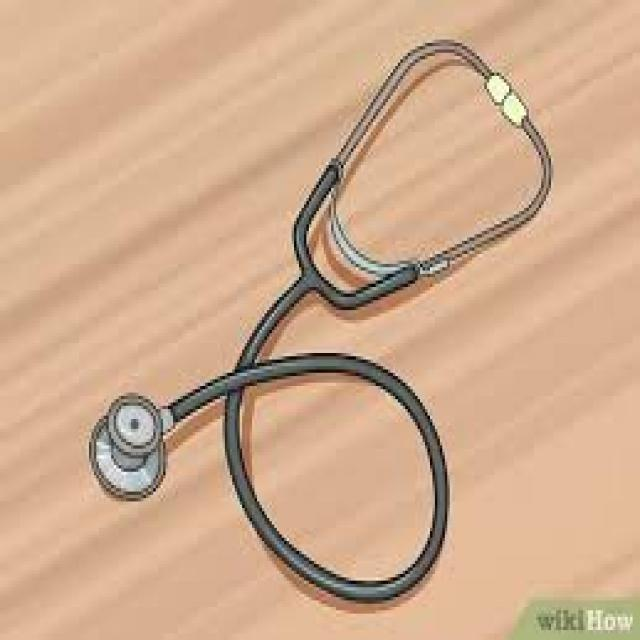stethoscope: (77, 34, 559, 601)
